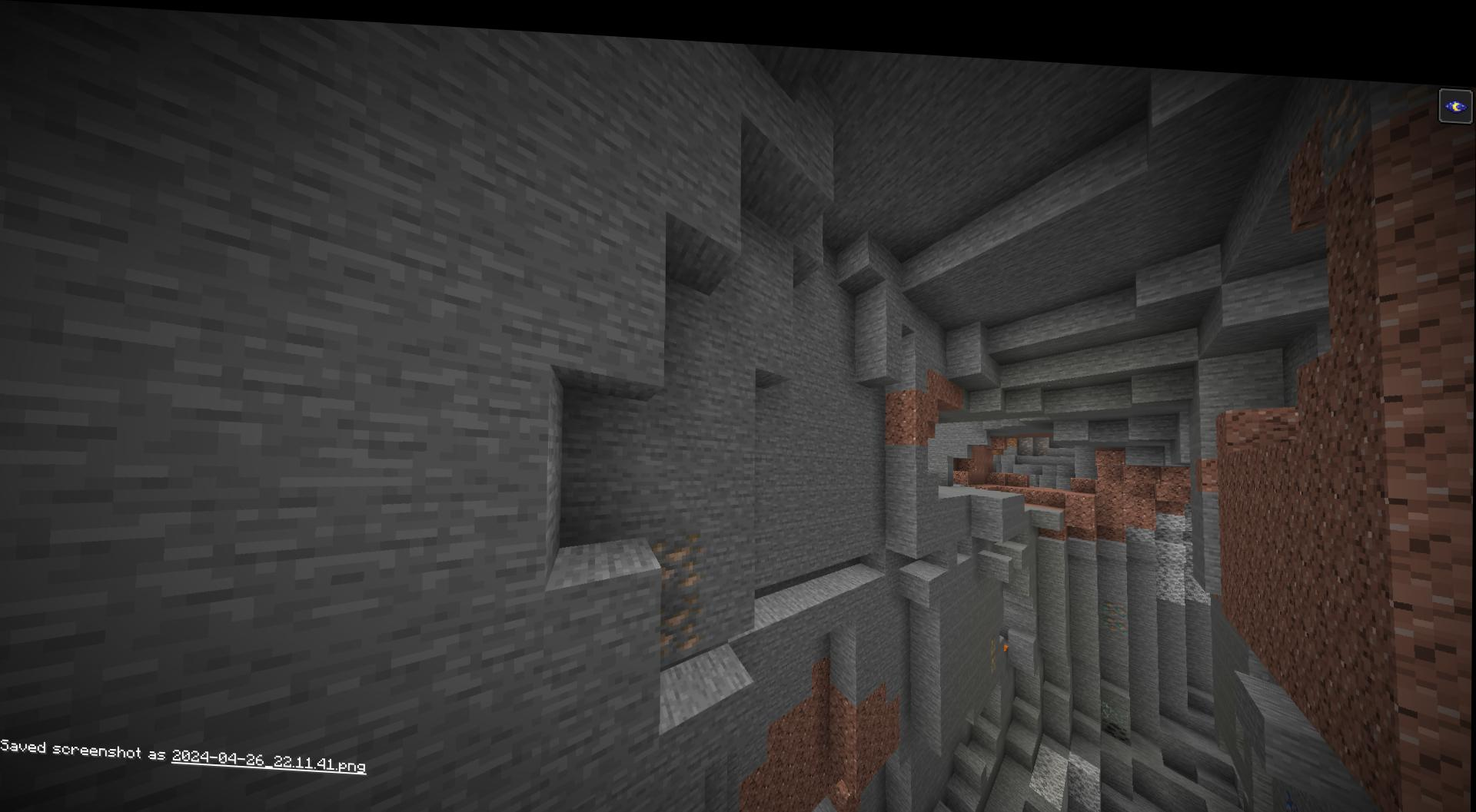iron ore: (653, 584, 706, 649), (650, 522, 703, 586)
